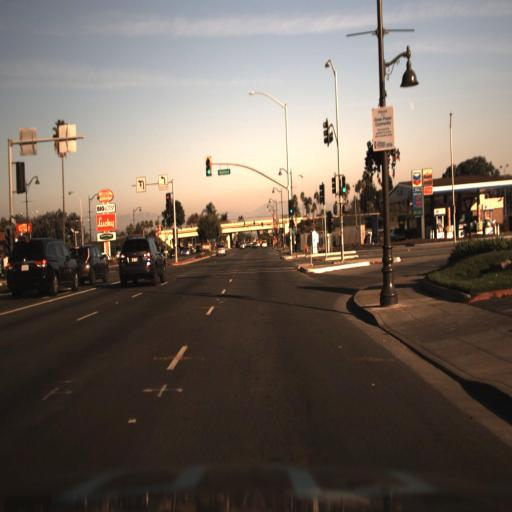car: (7, 238, 80, 302), (118, 233, 172, 289), (74, 242, 112, 288), (69, 240, 110, 280), (215, 240, 229, 258), (179, 242, 192, 260)
trafficLight-Green: (340, 172, 349, 200), (286, 200, 296, 222), (286, 199, 294, 223), (204, 158, 211, 179), (342, 181, 349, 200)
trafficLight-Red: (163, 190, 170, 212)
